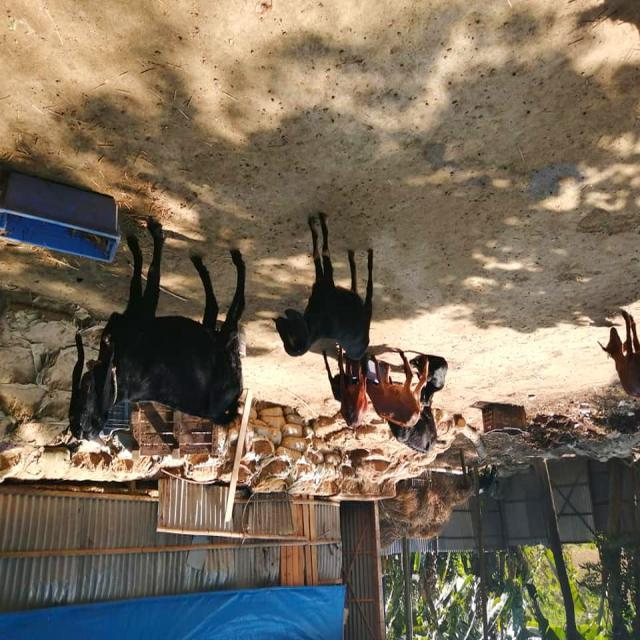Goat: (67, 217, 246, 443), (272, 213, 374, 363), (365, 351, 429, 430), (322, 346, 368, 429), (597, 311, 639, 399), (386, 405, 437, 455), (410, 356, 447, 408)
